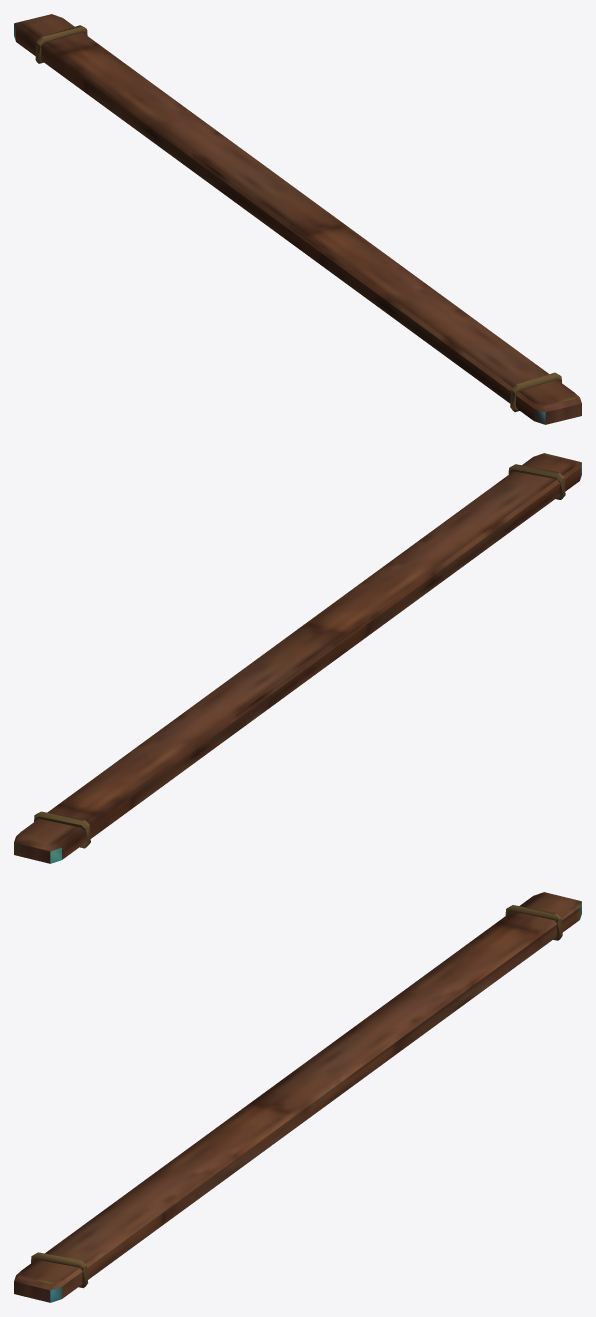
Rendered from Frame.fbx.
3 renders of one model, top to bottom at view 1: azimuth 30°, elevation 25°; view 2: azimuth 150°, elevation 25°; view 3: azimuth 330°, elevation 25°, orthographic.
Visible parts, largest first — view 1: Frame; view 2: Frame; view 3: Frame.
Part boxes in pixels (bbox=[...]): Frame: bbox=[14, 14, 581, 424]; Frame: bbox=[14, 453, 581, 863]; Frame: bbox=[14, 892, 581, 1302].
Bounding box in the file's own units: 6.52 × 3.01 × 112.
